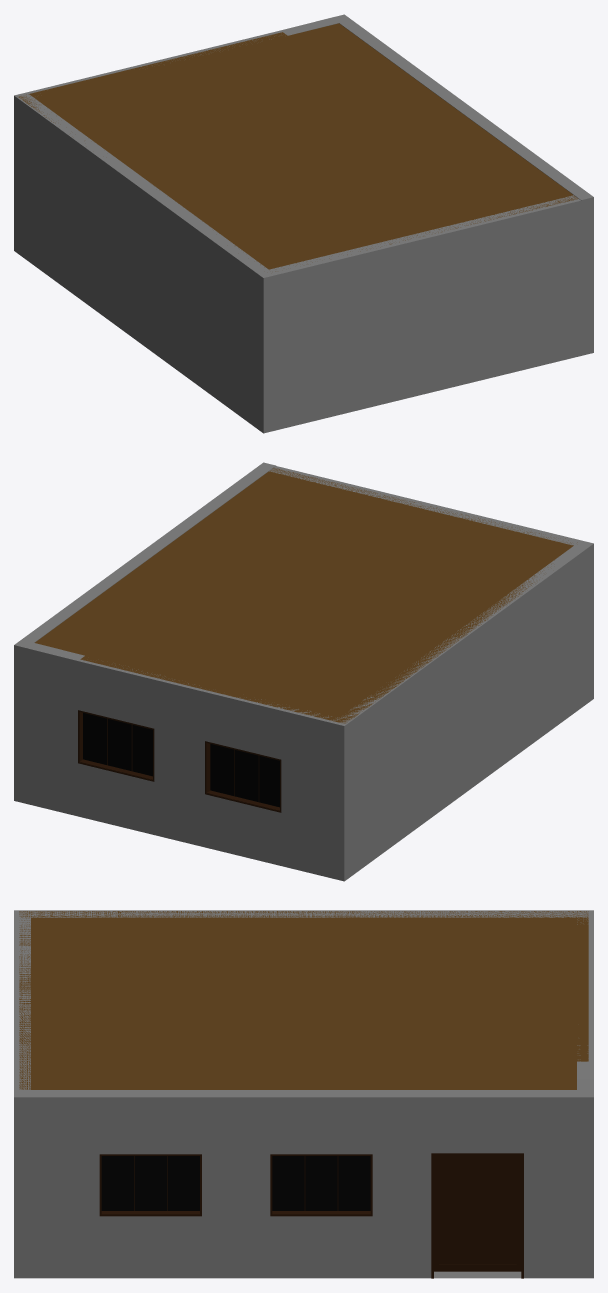
The model's file is ROOM 1.fbx.
3 renders of one model, top to bottom at view 1: azimuth 30°, elevation 25°; view 2: azimuth 150°, elevation 25°; view 3: azimuth 270°, elevation 25°, orthographic. The views are drawn at different scales.
Parts seen in each view (by area): view 1: Cieling, WALL 2, WALL 3, Wall 4, Wall; view 2: Cieling, WALL 3, Wall, Wall 4, FixedWindow004, FixedWindow003, WALL 2; view 3: Cieling, Wall 4, PivotDoor001, FixedWindow002, FixedWindow001, WALL 3, WALL 2, Wall.
Boxes of the visible parts, x1=… form: Cieling: x1=18, y1=23, x2=578, y2=271; WALL 2: x1=269, y1=195, x2=581, y2=430; WALL 3: x1=14, y1=92, x2=276, y2=433; Wall 4: x1=332, y1=14, x2=593, y2=355; Wall: x1=27, y1=17, x2=338, y2=93; Cieling: x1=35, y1=468, x2=577, y2=723; WALL 3: x1=331, y1=540, x2=593, y2=881; Wall: x1=26, y1=643, x2=337, y2=878; Wall 4: x1=14, y1=462, x2=275, y2=803; FixedWindow004: x1=205, y1=741, x2=281, y2=812; FixedWindow003: x1=78, y1=710, x2=154, y2=781; WALL 2: x1=269, y1=466, x2=580, y2=545; Cieling: x1=19, y1=911, x2=588, y2=1089; Wall 4: x1=14, y1=1090, x2=593, y2=1278; PivotDoor001: x1=431, y1=1153, x2=523, y2=1278; FixedWindow002: x1=270, y1=1154, x2=372, y2=1216; FixedWindow001: x1=99, y1=1154, x2=201, y2=1216; WALL 3: x1=14, y1=910, x2=593, y2=917; WALL 2: x1=14, y1=917, x2=30, y2=1089; Wall: x1=577, y1=917, x2=593, y2=1089.
Bounding box in the file's own units: 651 × 293 × 850.
